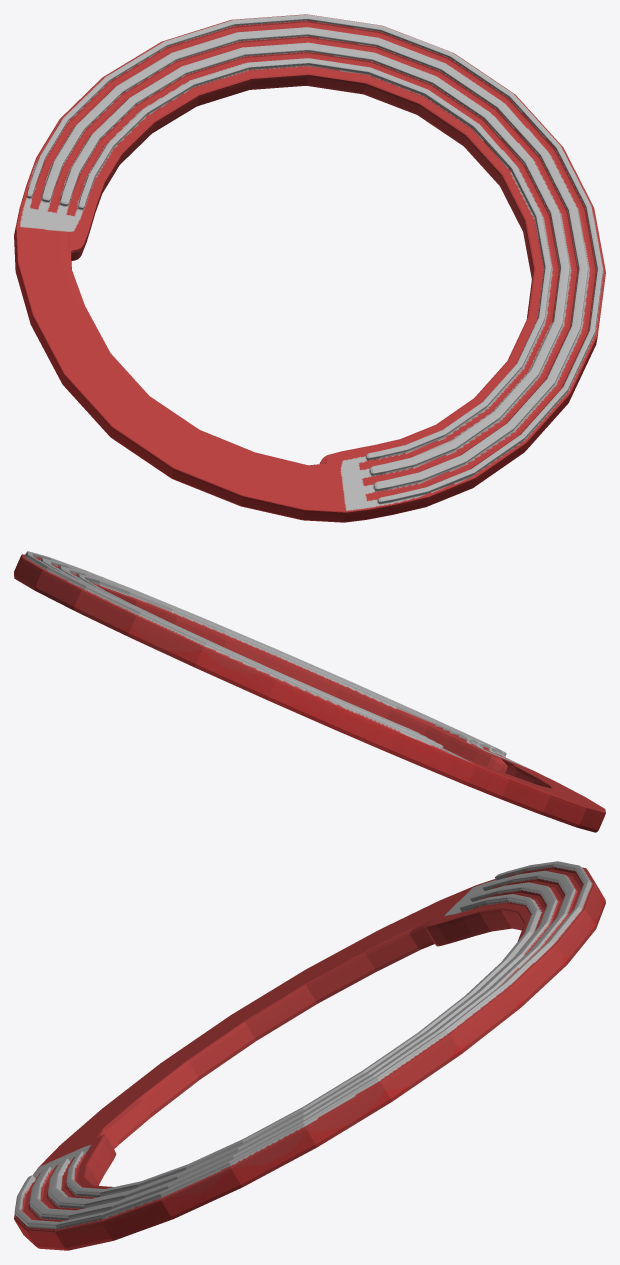
File: NTX_03.glb
The picture shows the model from 3 angles, top to bottom: view 1: azimuth 30°, elevation 25°; view 2: azimuth 150°, elevation 25°; view 3: azimuth 270°, elevation 25°; orthographic projection. The views are drawn at different scales.
Size of the model in its own units: 0.1623 by 0.0939 by 0.1451.
1 material, 1 textured.
